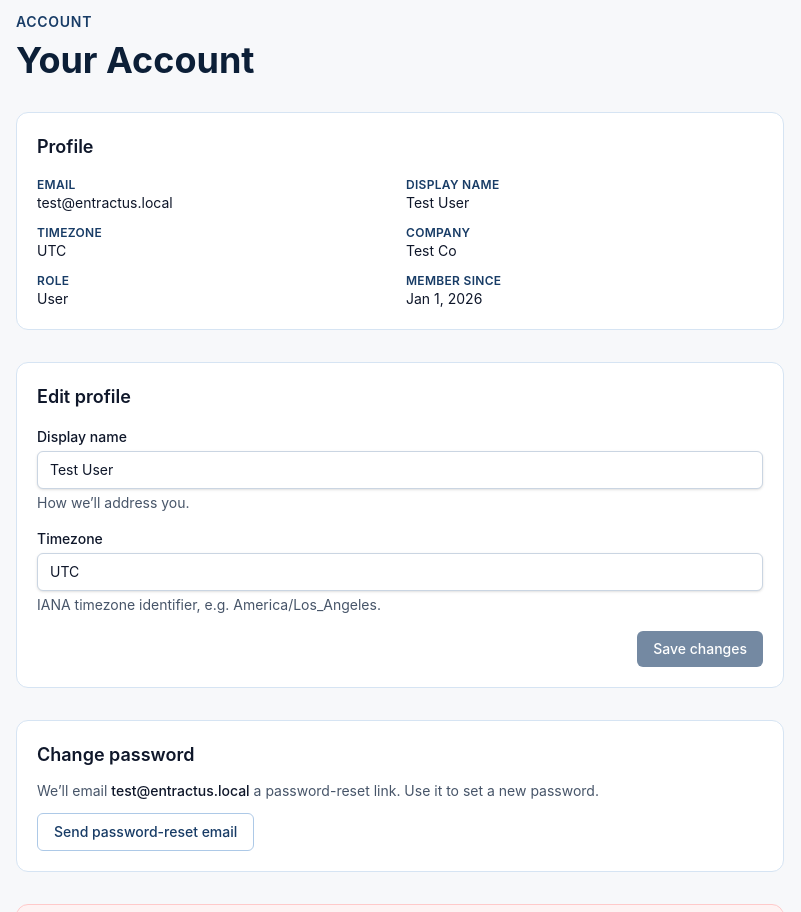
<AccountPage /> — change password › POSTs forgot-password with the user email and shows a success banner
Click the button "Send password-reset email" at (146, 832), box top-left (37, 813), bottom-right (254, 851)
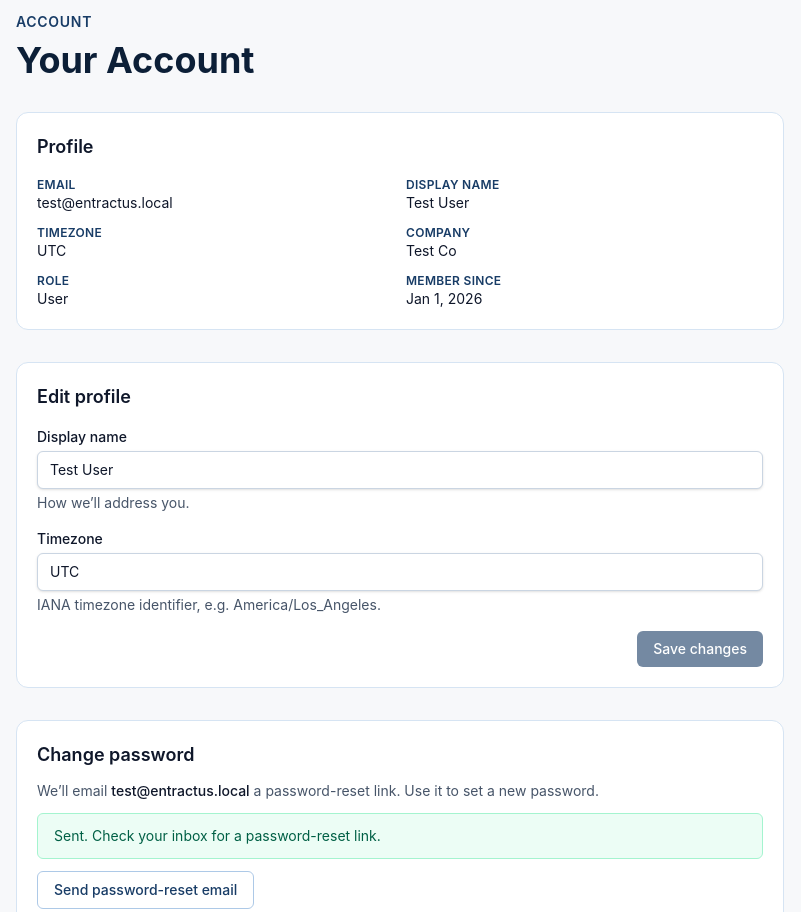
Result: the text "Sent. Check your inbox for a password-reset link." is shown at top-left (37, 813), bottom-right (763, 859)
